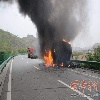fire: (44, 44, 55, 68), (57, 61, 70, 68), (62, 38, 71, 44)
